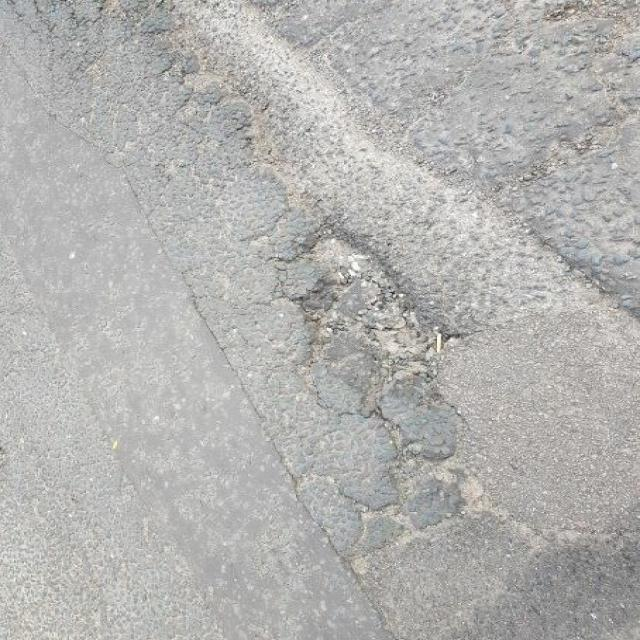pothole: (254, 203, 474, 386)
